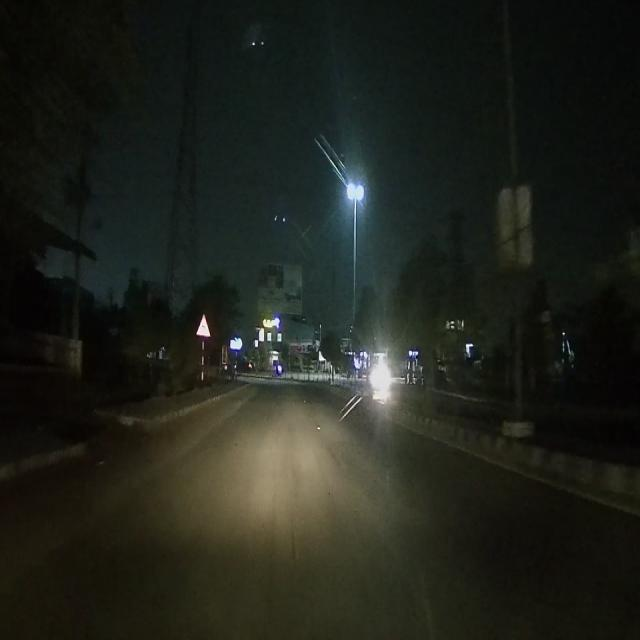left-hand-curve: (198, 313, 208, 336)
